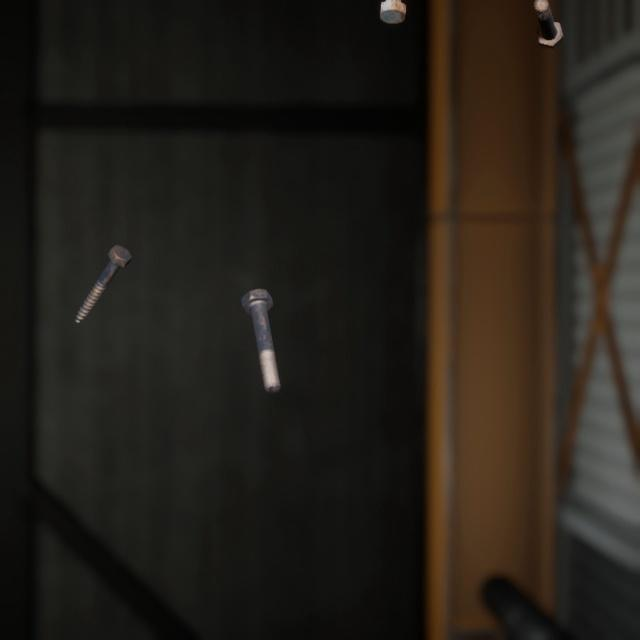bolt: (70, 223, 136, 310), (236, 266, 285, 378), (530, 0, 568, 45), (374, 0, 411, 28)
